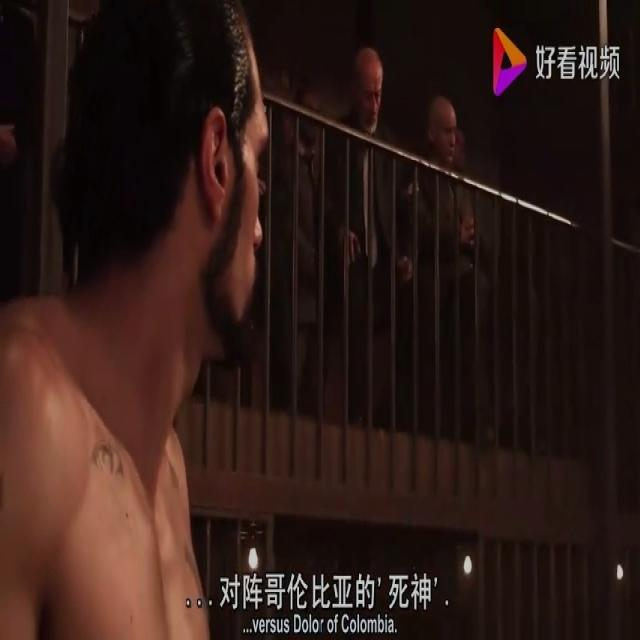non-fight: (321, 38, 416, 431), (400, 96, 487, 445), (264, 82, 329, 416)
